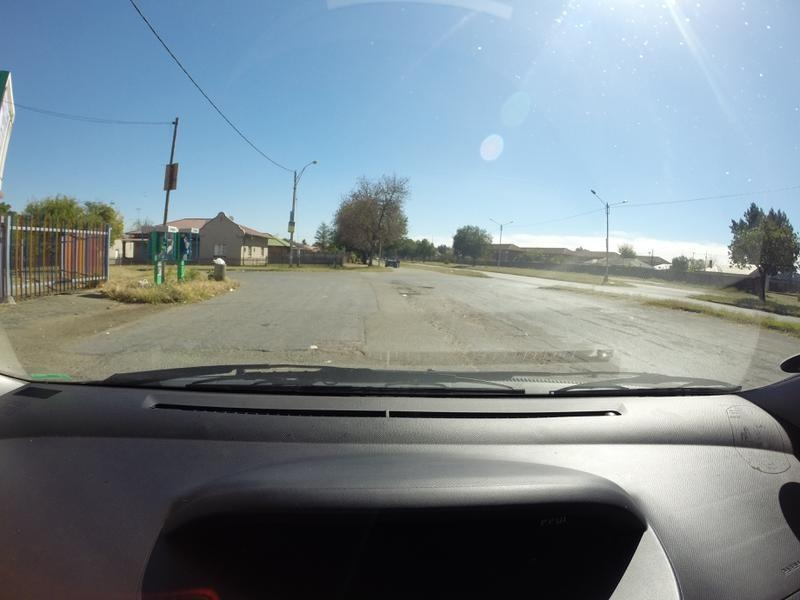pothole: (489, 316, 522, 333), (329, 341, 358, 354), (240, 345, 269, 353), (397, 290, 421, 295), (418, 282, 434, 289), (257, 321, 270, 329)
